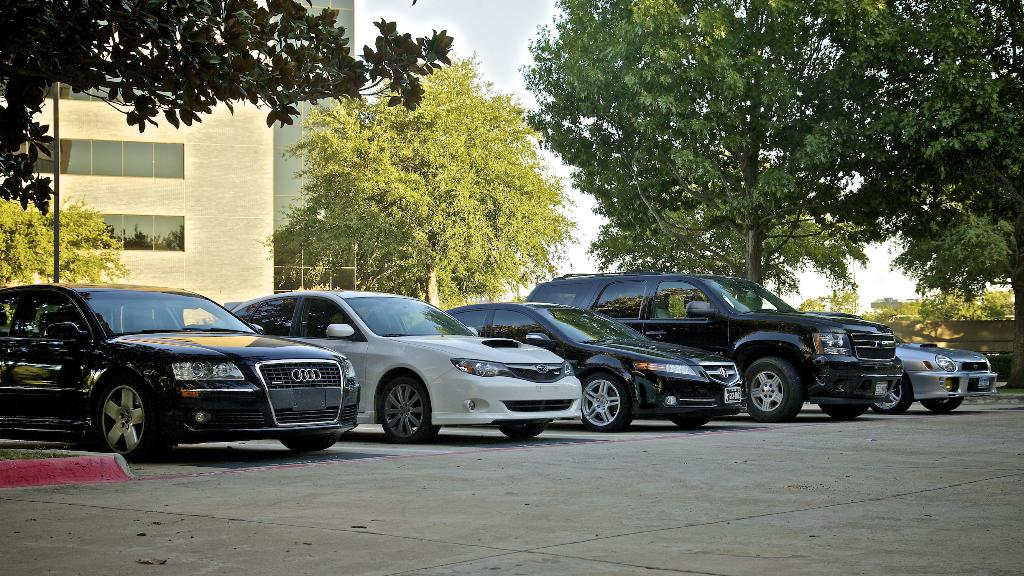Car: (0, 269, 1014, 452)
